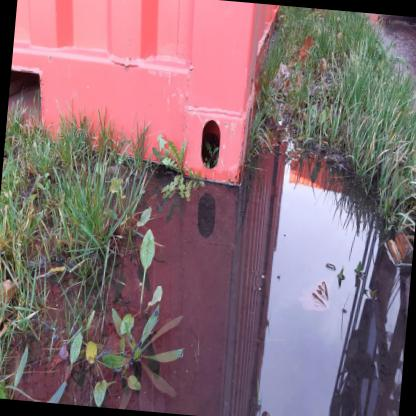CornerCasting: (180, 90, 262, 184)
